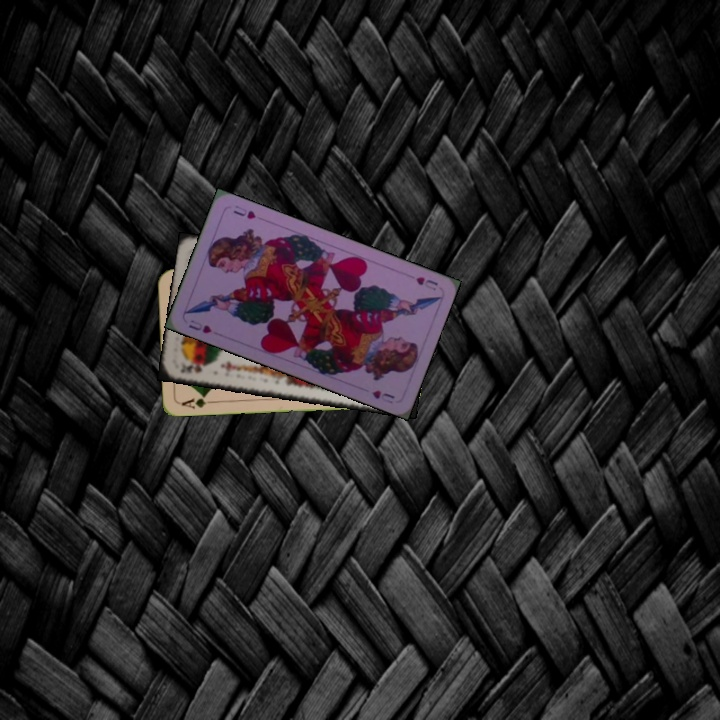GA: (178, 391, 218, 411)
HU: (185, 316, 214, 336), (412, 273, 440, 293)
SK: (176, 359, 210, 376)
